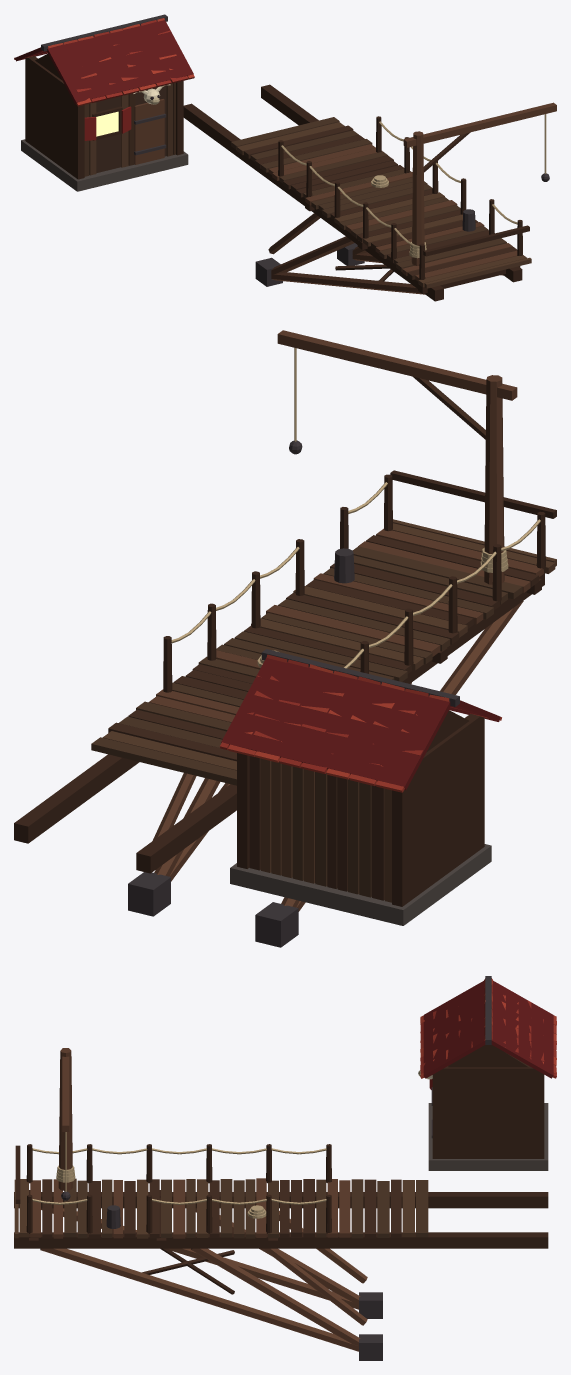
The model's file is dock.glb.
3 views of the same model, one above another, from view 1: azimuth 30°, elevation 25°; view 2: azimuth 150°, elevation 25°; view 3: azimuth 270°, elevation 25° (orthographic). The views are drawn at different scales.
Parts seen in each view (by area): view 1: dock; view 2: dock; view 3: dock.
Boxes of the visible parts, x1=… form: dock: x1=14, y1=14, x2=556, y2=301; dock: x1=14, y1=330, x2=556, y2=947; dock: x1=14, y1=976, x2=556, y2=1360.
Bounding box in the file's own units: 9.6 × 7.37 × 13.61.
